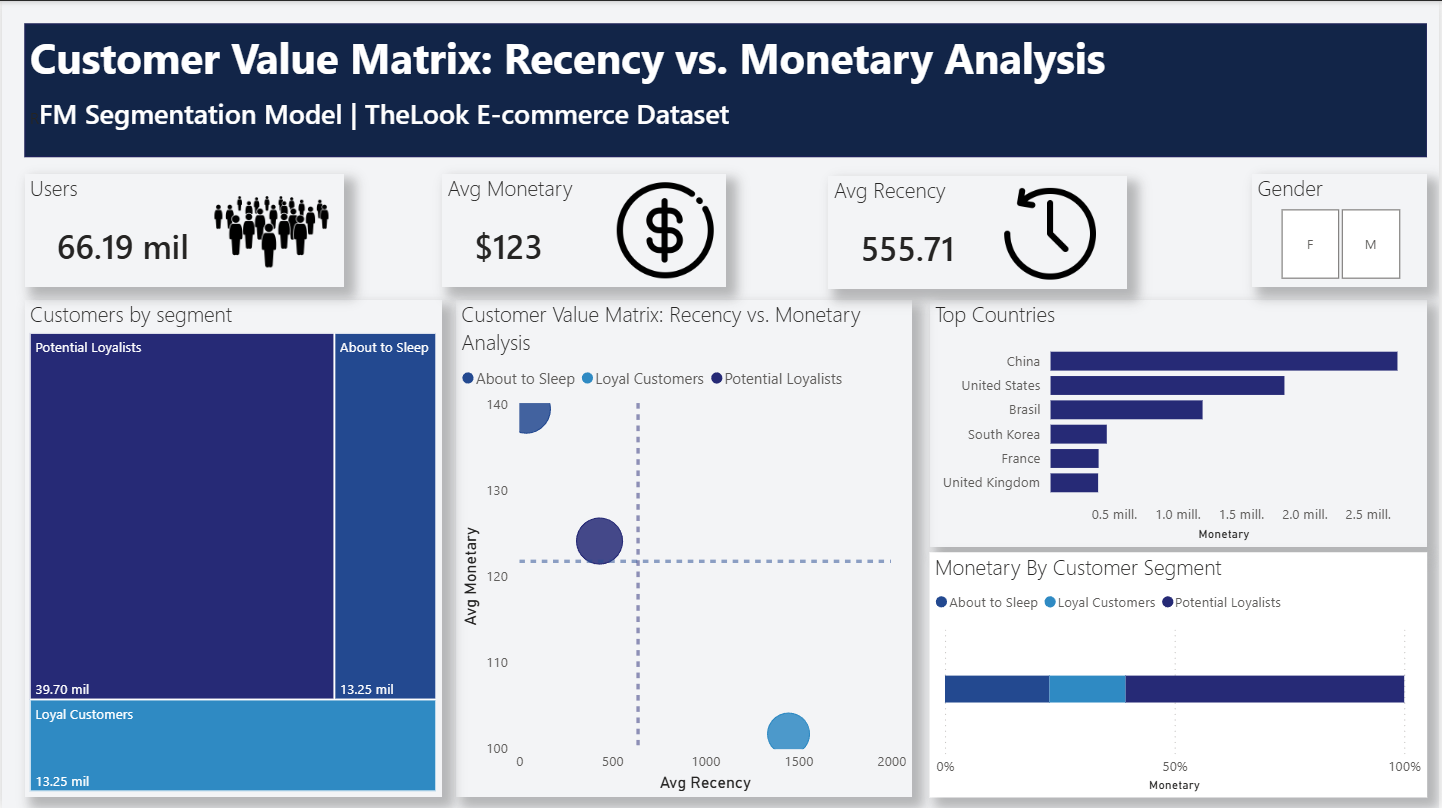

Layout of this report page (visuals, bound fields, positions):
{"tool":"powerbi","page":{"name":"Página 1","canvas":[1280,720],"ordinal":0},"visuals":[{"type":"cardVisual","title":"Avg Monetary","fields":{"Data":["Avg(ver_rfm_segmentation_custom.monetary)"]},"box":[391.4,153.4,252.8,100.6],"z":1000},{"type":"cardVisual","title":"Users","fields":{"Data":["Count(ver_rfm_segmentation_custom.user_id)"]},"box":[19.6,153.4,284.7,100.6],"z":2000},{"type":"treemap","title":"Customers by segment","fields":{"Group":["ver_rfm_segmentation_custom.customer_segment"],"Values":["Count(ver_rfm_segmentation_custom.user_id)"]},"box":[19.6,266.3,371.8,442.9],"z":4000},{"type":"scatterChart","title":"Customer Value Matrix: Recency vs. Monetary Analysis","fields":{"Y":["Avg(ver_rfm_segmentation_custom.monetary)"],"X":["Avg(ver_rfm_segmentation_custom.recency)"],"Size":["Avg(ver_rfm_segmentation_custom.frequency)"],"Category":["ver_rfm_segmentation_custom.customer_segment"],"Series":["ver_rfm_segmentation_custom.customer_segment"]},"box":[403.7,266.3,406.1,442.9],"z":5000},{"type":"cardVisual","title":"Avg Recency","fields":{"Data":["Avg(ver_rfm_segmentation_custom.recency)"]},"box":[736.2,155.8,266.3,100.6],"z":5001},{"type":"slicer","title":"Gender","fields":{"Values":["ver_rfm_segmentation_custom.gender"]},"box":[1112.9,153.4,155.8,100.6],"z":5002},{"type":"clusteredBarChart","title":"Top Countries","fields":{"Category":["ver_rfm_segmentation_custom.country"],"Y":["Sum(ver_rfm_segmentation_custom.monetary)","select"]},"box":[825.8,266.3,442.9,219.6],"z":5003},{"type":"shape","box":[19.6,19.6,1249.1,119],"z":5004},{"type":"textbox","box":[19.6,19.6,1067.5,60.1],"z":5005},{"type":"textbox","box":[19.6,78.5,1067.5,60.1],"z":5006},{"type":"image","box":[174.2,154.4,130.1,101.8],"z":5008},{"type":"image","box":[536,161,110.4,85.9],"z":5009},{"type":"image","box":[879.8,163.2,108,87.1],"z":5010},{"type":"hundredPercentStackedBarChart","title":"Monetary By Customer Segment","fields":{"Y":["Sum(ver_rfm_segmentation_custom.monetary)"],"Series":["ver_rfm_segmentation_custom.customer_segment"]},"box":[825.8,490.8,442.9,218.4],"z":5011}]}

Visuals, with their boxes in screenshot pixels (x1, y1, x2, y2), scaled from the page's 1280x720 canvas onto the 1442x808 screenshot:
"Avg Monetary" cardVisual: bbox(441, 172, 726, 285)
"Users" cardVisual: bbox(22, 172, 343, 285)
"Customers by segment" treemap: bbox(22, 299, 441, 796)
"Customer Value Matrix: Recency vs. Monetary Analysis" scatterChart: bbox(455, 299, 912, 796)
"Avg Recency" cardVisual: bbox(829, 175, 1129, 288)
"Gender" slicer: bbox(1254, 172, 1429, 285)
"Top Countries" clusteredBarChart: bbox(930, 299, 1429, 545)
shape: bbox(22, 22, 1429, 156)
textbox: bbox(22, 22, 1225, 89)
textbox: bbox(22, 88, 1225, 156)
image: bbox(196, 173, 343, 288)
image: bbox(604, 181, 728, 277)
image: bbox(991, 183, 1113, 281)
"Monetary By Customer Segment" hundredPercentStackedBarChart: bbox(930, 551, 1429, 796)
